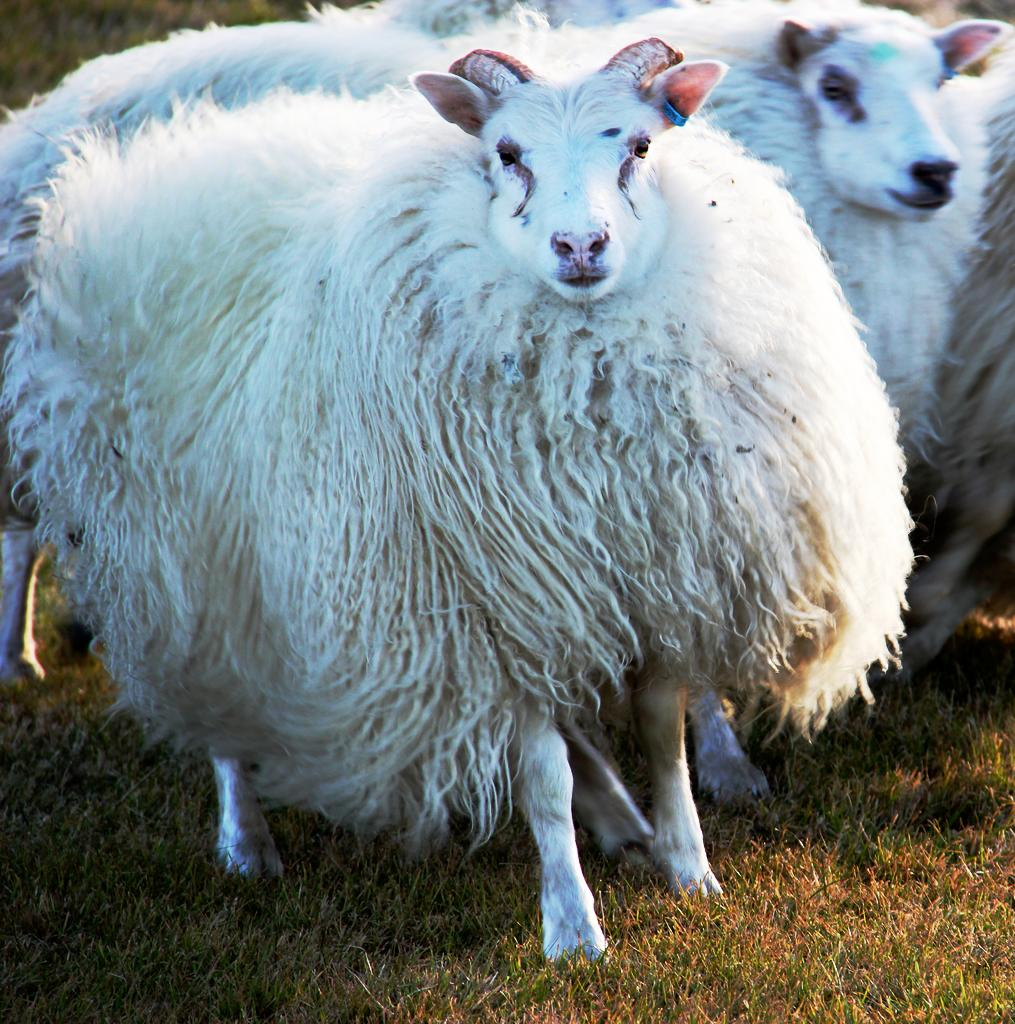Sheep: (0, 0, 936, 963), (0, 9, 1002, 742)
